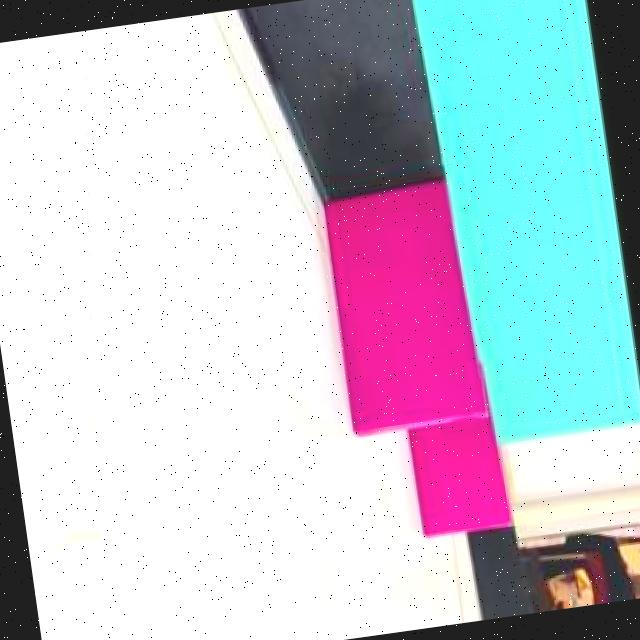xparking: (323, 185, 478, 436), (408, 415, 506, 536)
